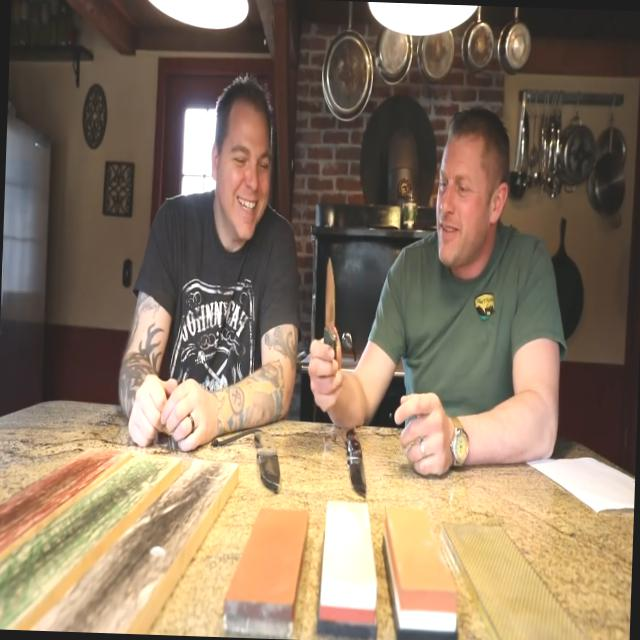knife: (306, 243, 349, 402)
